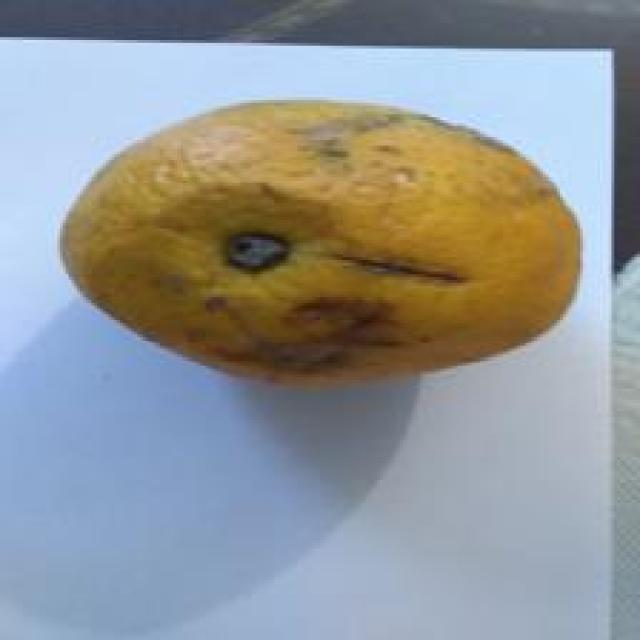overripe: (56, 93, 590, 391)
